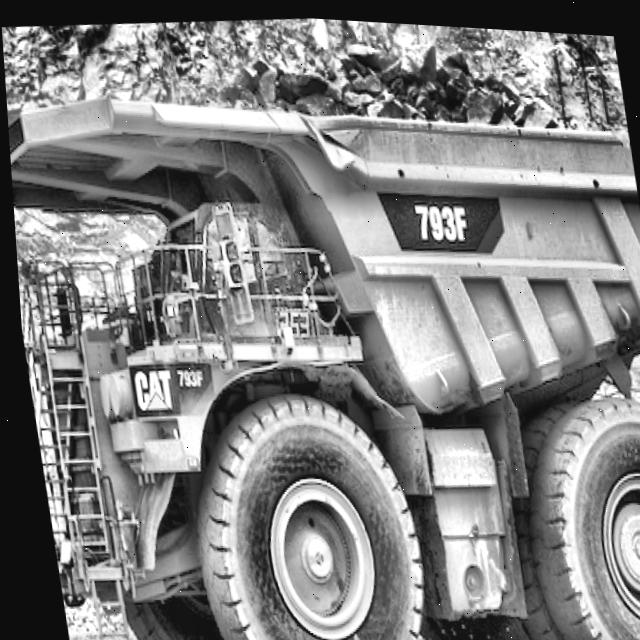dump_truck: (0, 8, 640, 640)
